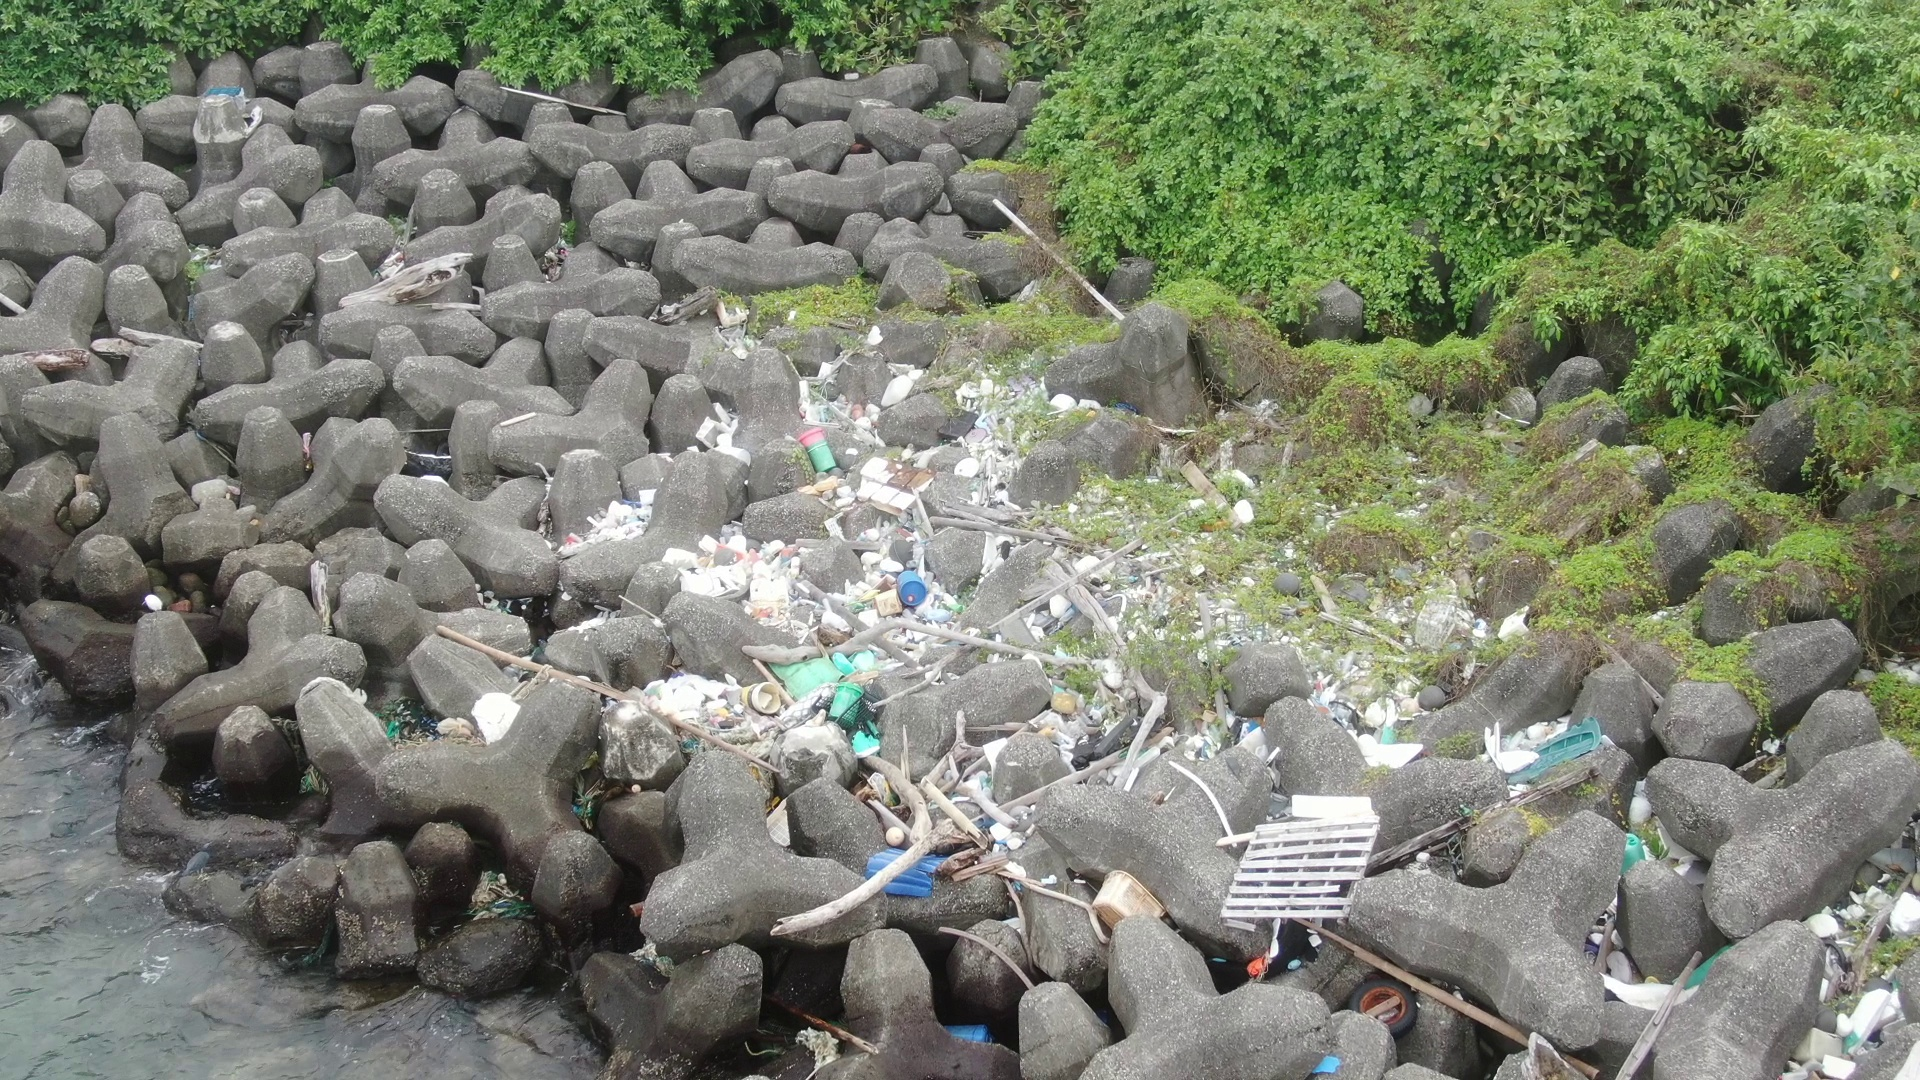garbage: (554, 305, 1236, 665), (636, 663, 1023, 911), (1203, 793, 1423, 1080), (1046, 665, 1294, 786), (1298, 613, 1462, 777), (1797, 845, 1911, 1080), (1557, 890, 1731, 1036), (1476, 713, 1611, 789), (1080, 860, 1170, 945), (778, 1002, 855, 1076), (367, 683, 444, 752), (459, 865, 537, 919), (1604, 835, 1677, 881), (932, 1005, 996, 1058), (568, 779, 616, 837), (200, 73, 251, 124), (287, 764, 327, 796)
